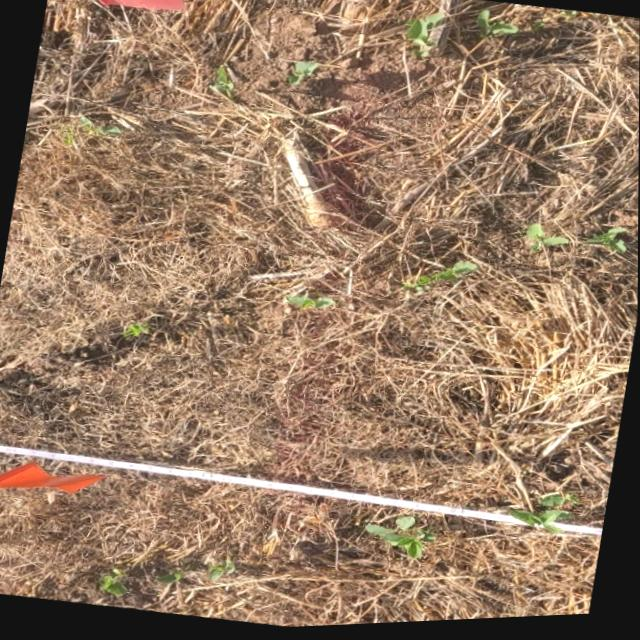soy_plant: (365, 521, 436, 562), (511, 497, 576, 538), (401, 265, 477, 296), (405, 16, 445, 62), (511, 514, 569, 537), (474, 14, 518, 44), (525, 228, 568, 257), (580, 233, 626, 259), (98, 569, 127, 598), (285, 296, 335, 312), (209, 67, 233, 98), (287, 64, 317, 88), (205, 561, 235, 584), (155, 571, 183, 587), (123, 324, 150, 338)
